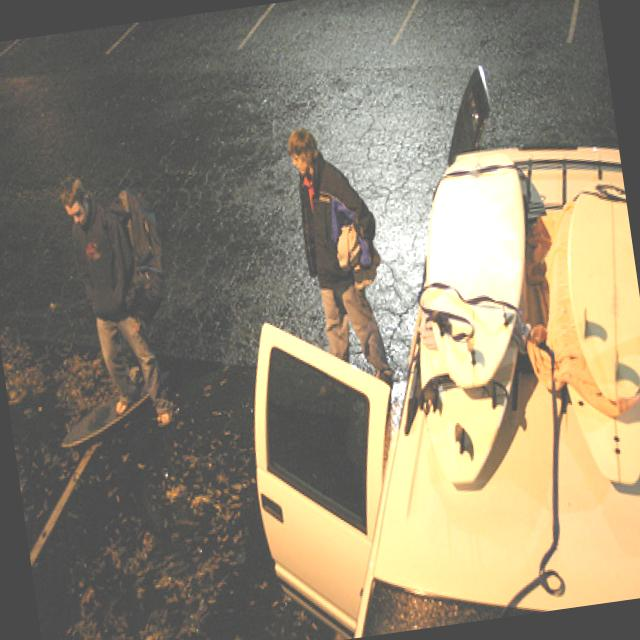Vehicle: (199, 41, 640, 640)
